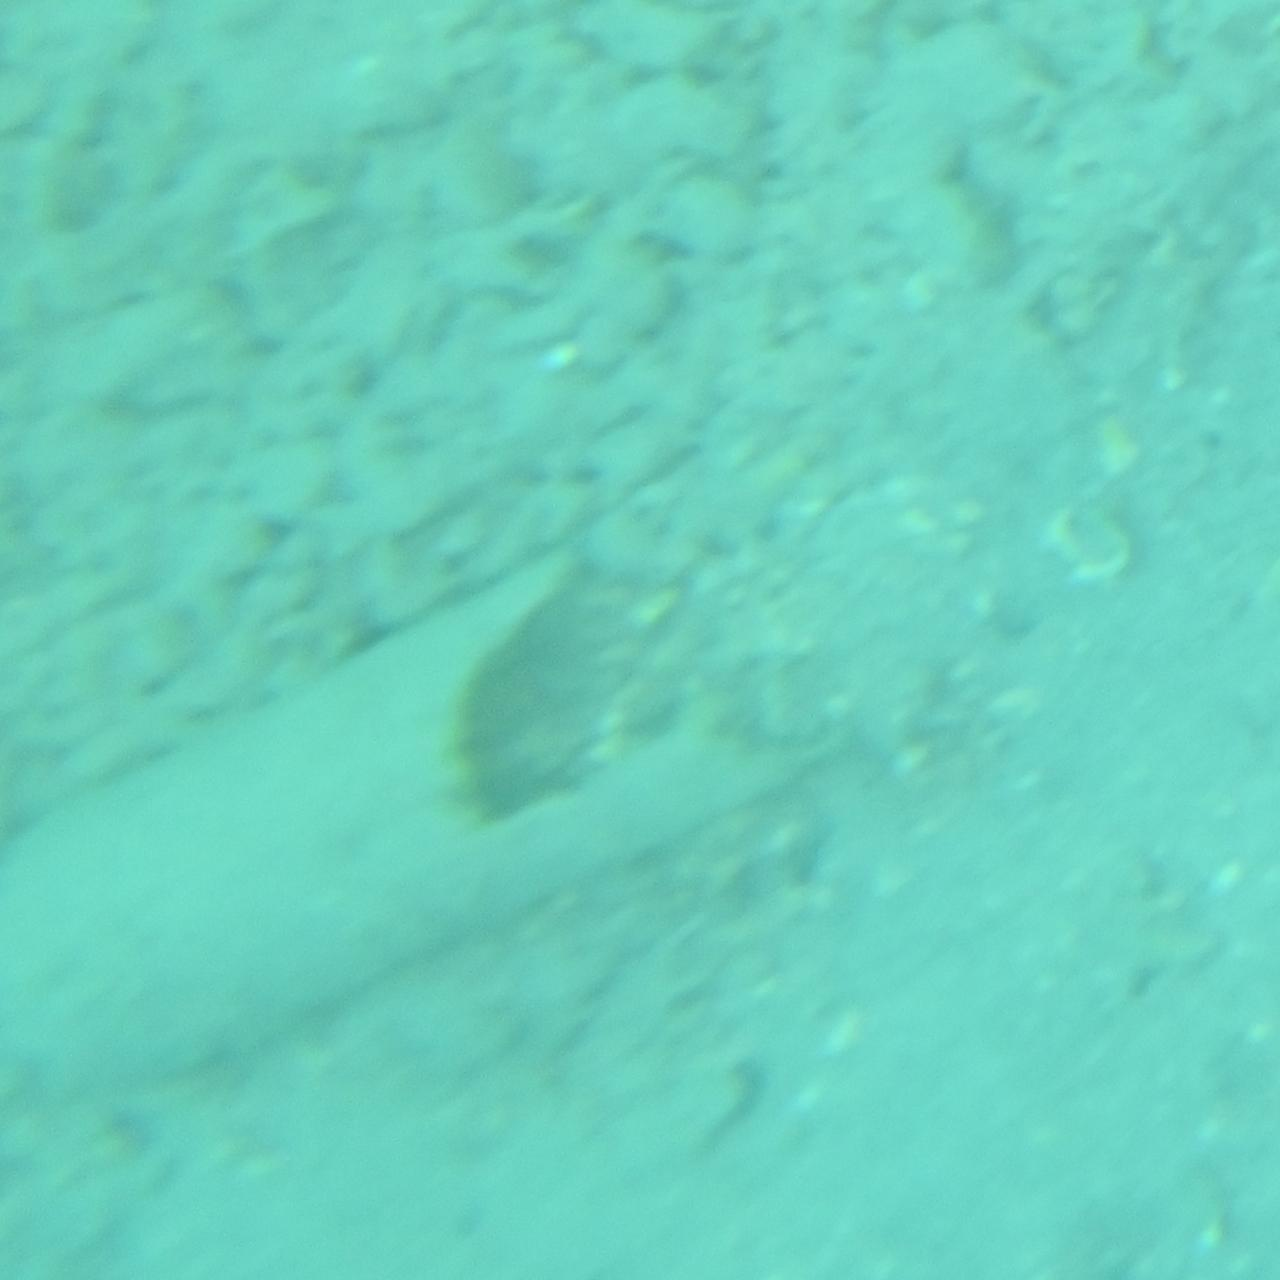Rifiuto: (0, 538, 822, 1060)
